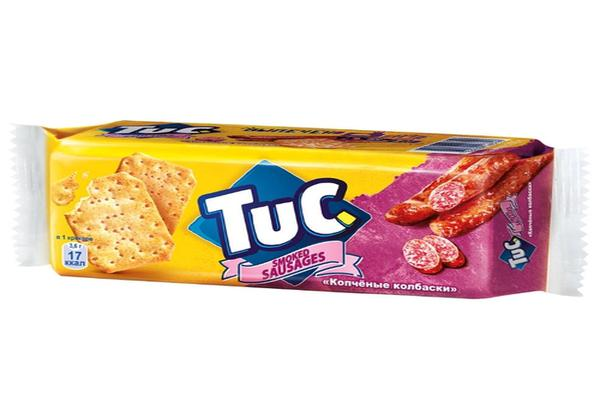crackers tuc: (67, 124, 553, 292)
